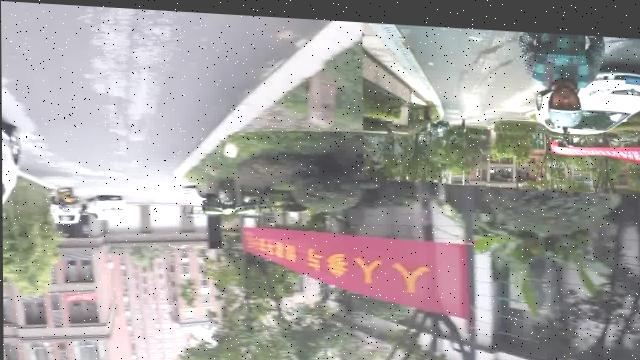drone: (174, 180, 279, 227)
